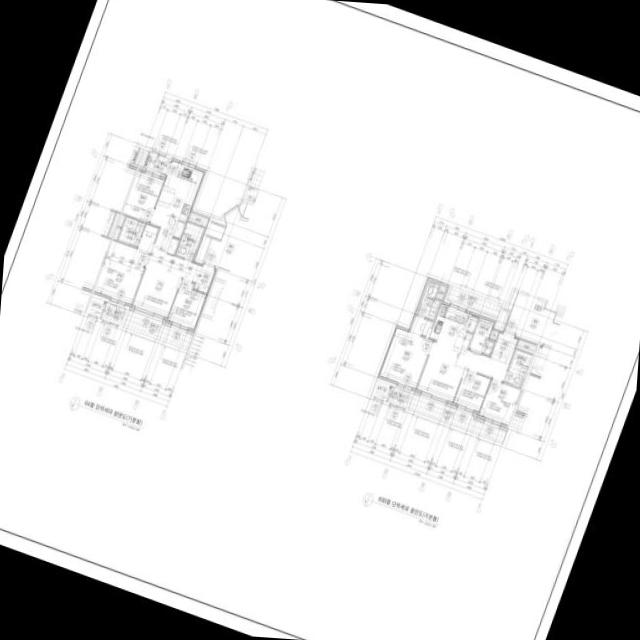background: (0, 0, 640, 640)
space_balconi: (407, 393, 506, 443), (122, 309, 192, 350), (446, 285, 502, 317), (100, 301, 125, 325), (386, 386, 410, 408)
space_bedroom: (93, 223, 158, 306), (376, 314, 432, 390), (122, 168, 166, 222), (164, 279, 206, 331), (477, 379, 519, 427), (452, 370, 490, 417)
space_elevator_hall: (503, 291, 562, 346), (197, 207, 247, 270)
space_front: (489, 330, 518, 364), (191, 262, 216, 295)
space_kitchen: (149, 157, 206, 255), (428, 301, 480, 351)
space_living_room: (414, 340, 508, 404), (130, 248, 198, 319)
space_multipurpose_space: (468, 315, 495, 355), (143, 151, 168, 175)
space_other: (516, 337, 536, 353), (435, 285, 445, 299), (489, 328, 499, 339)
space_outdoor_room: (369, 380, 391, 401), (85, 296, 105, 318)
space_toilet: (174, 221, 203, 260), (503, 348, 532, 387), (416, 281, 440, 320), (117, 216, 144, 246)
